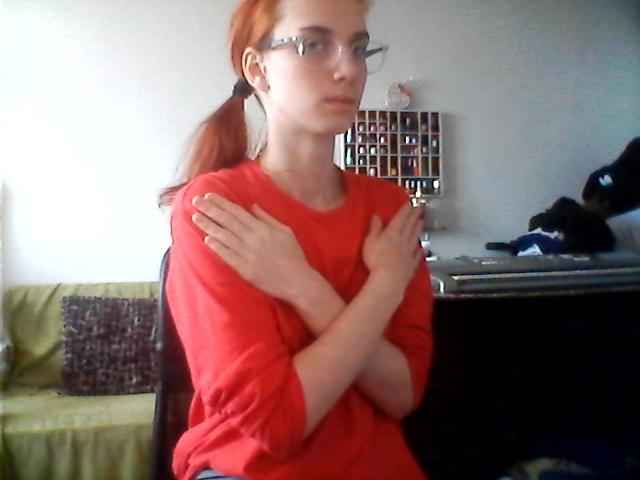z: (180, 182, 442, 434)
